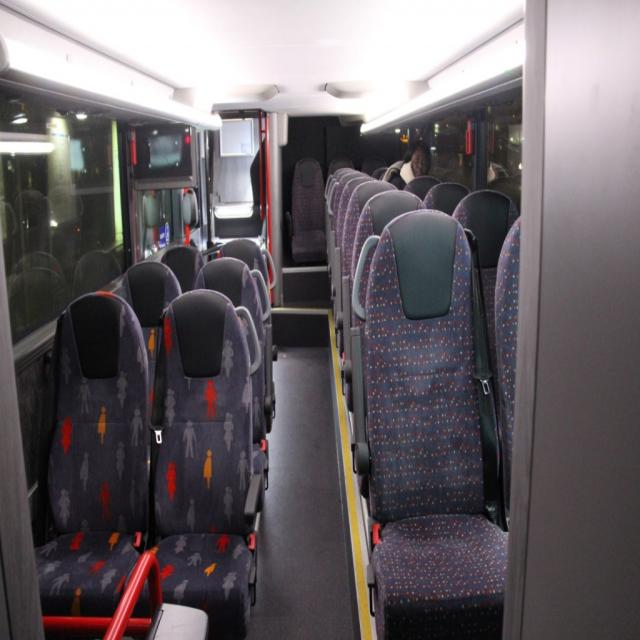empty-seat-frontal: (350, 209, 511, 639), (129, 292, 262, 638), (18, 289, 150, 629)
